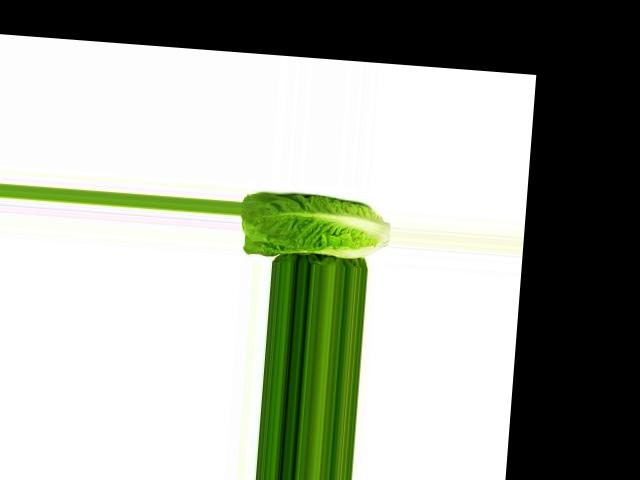lettuce: (237, 179, 392, 262)
